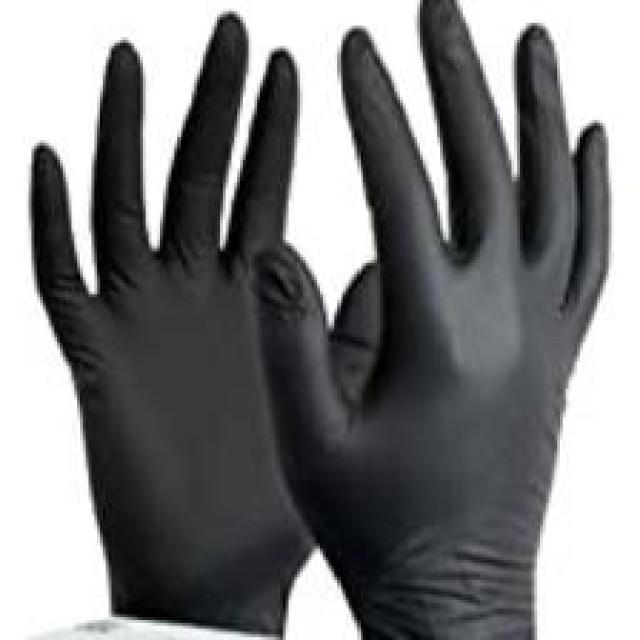Glove: (286, 11, 631, 640), (16, 86, 373, 634)
